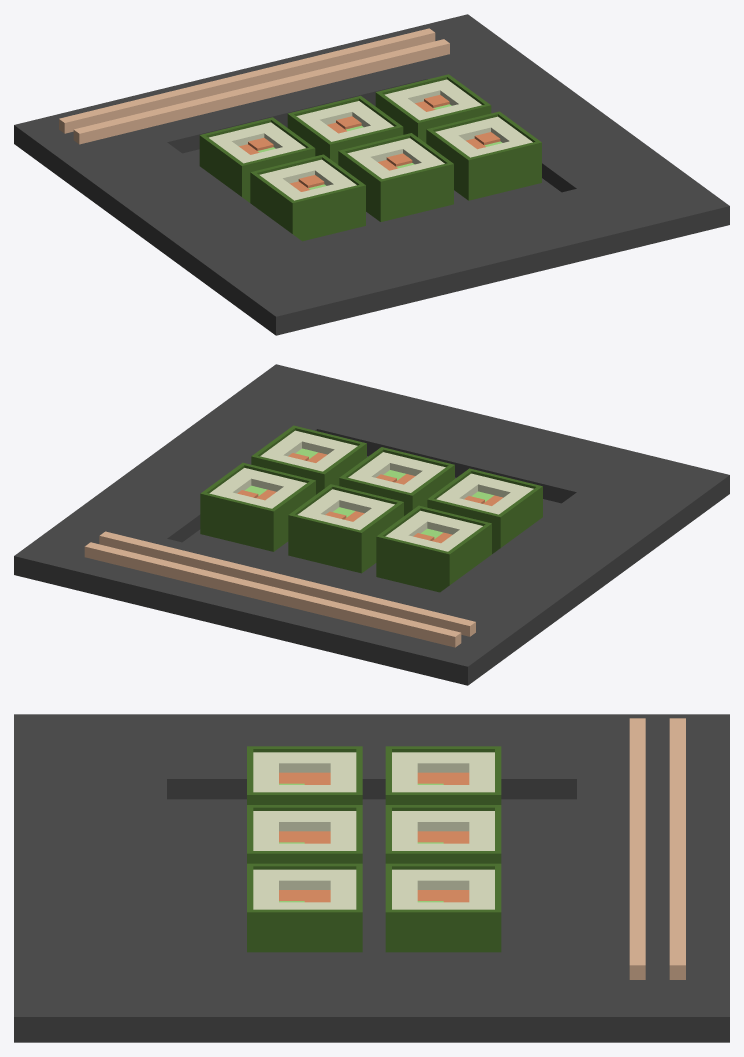
The model's file is sushi.glb.
3 views of the same model, one above another, from view 1: azimuth 30°, elevation 25°; view 2: azimuth 150°, elevation 25°; view 3: azimuth 270°, elevation 25° (orthographic). The views are drawn at different scales.
Parts seen in each view (by area): view 1: Plate, Sushi, Stick.001, Stick; view 2: Plate, Sushi, Stick, Stick.001; view 3: Plate, Sushi, Stick.001, Stick.
Boxes of the visible parts, <box> form: Plate: <box>14,14,729,335</box>; Sushi: <box>199,74,541,241</box>; Stick.001: <box>73,39,449,144</box>; Stick: <box>59,28,435,133</box>; Plate: <box>14,364,729,685</box>; Sushi: <box>200,425,542,592</box>; Stick: <box>84,542,461,647</box>; Stick.001: <box>99,531,475,636</box>; Plate: <box>14,714,729,1042</box>; Sushi: <box>247,746,501,952</box>; Stick.001: <box>629,718,645,979</box>; Stick: <box>669,718,685,979</box>.
Size of the model in its own units: 7.97 by 0.7592 by 7.97.
